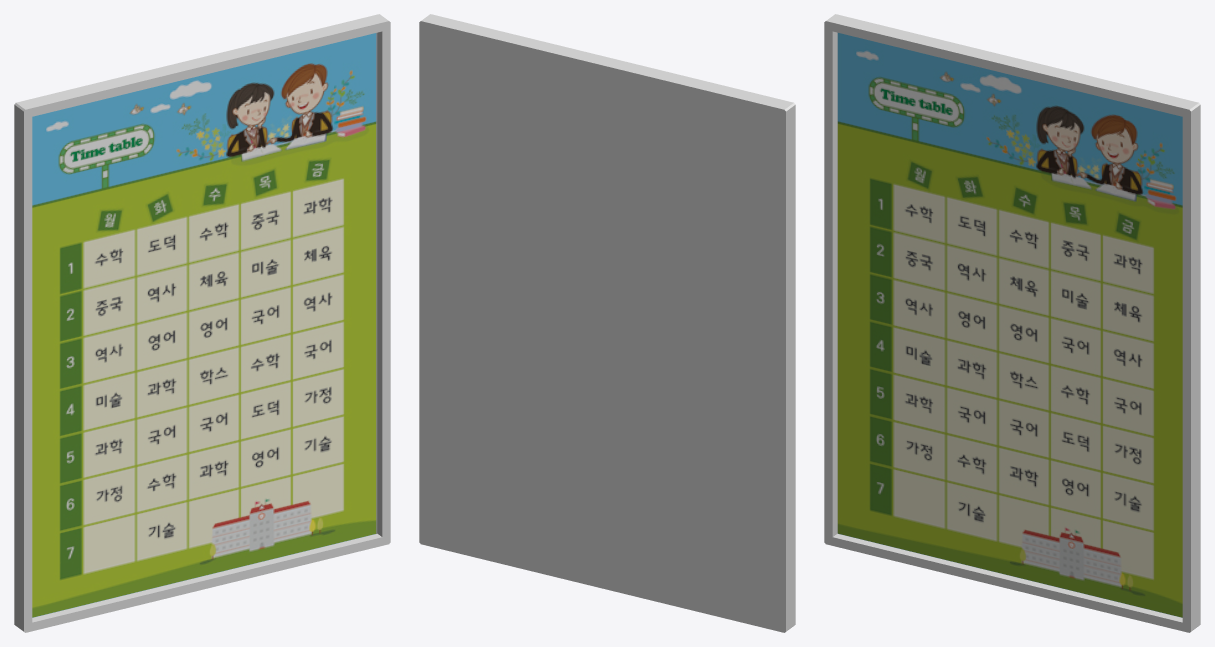
The model's file is Timetable.FBX.
3 views of the same model, side by side, from view 1: azimuth 30°, elevation 25°; view 2: azimuth 150°, elevation 25°; view 3: azimuth 330°, elevation 25° (orthographic).
Parts seen in each view (by area): view 1: Group001, Box001; view 2: Box001; view 3: Group001, Box001.
Boxes of the visible parts, left/top/right/bottom form: Group001: left=32, top=33, right=377, bottom=617; Box001: left=14, top=14, right=390, bottom=632; Box001: left=419, top=14, right=795, bottom=632; Group001: left=837, top=33, right=1182, bottom=617; Box001: left=824, top=14, right=1200, bottom=632.
Size of the model in its own units: 220 by 300 by 10.
